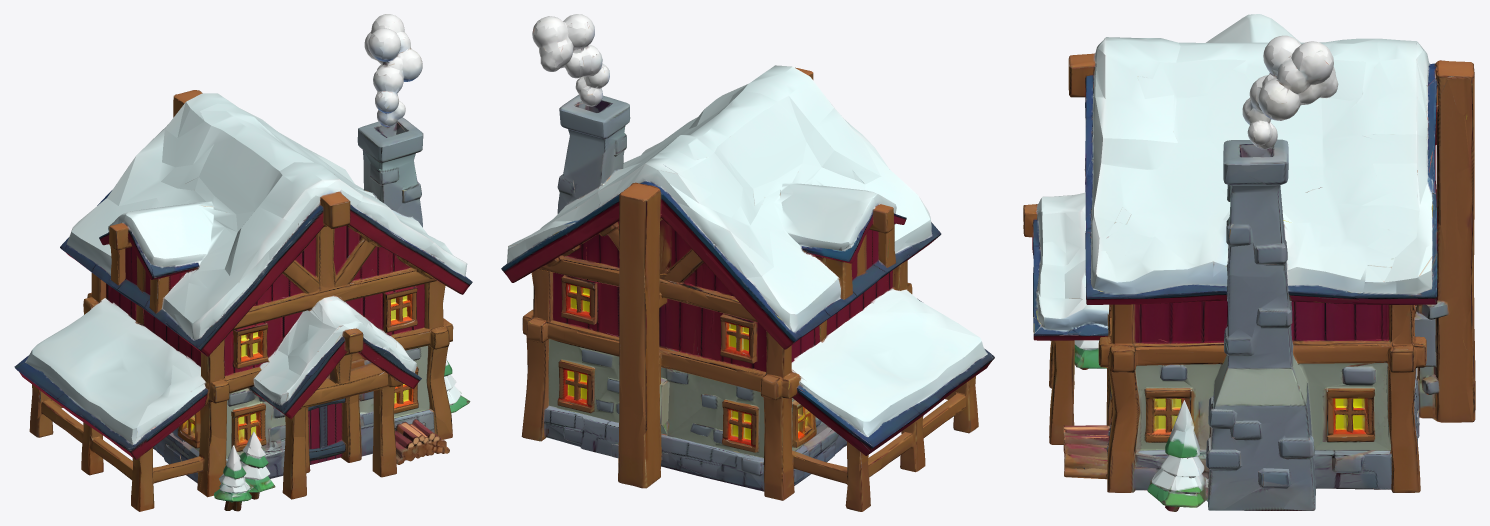
File: alpinelodge.glb
The picture shows the model from 3 angles, left to right: view 1: azimuth 30°, elevation 25°; view 2: azimuth 150°, elevation 25°; view 3: azimuth 270°, elevation 25°; orthographic projection. The views are drawn at different scales.
Bounding box in the file's own units: 1.9 × 1.82 × 1.6.
Materials: 1 (1 with a texture image).
